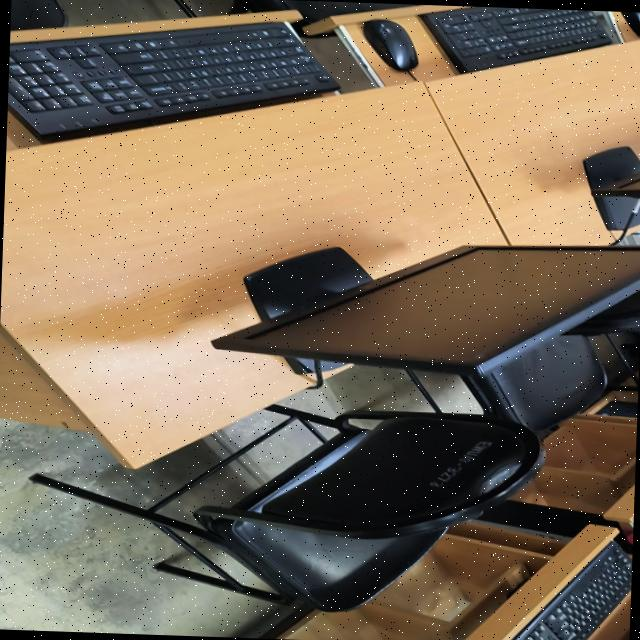Chair: (31, 403, 544, 610), (213, 244, 640, 381), (470, 289, 640, 430), (584, 145, 640, 229)
Cpu: (478, 499, 617, 536)
Keyboard: (7, 20, 339, 138), (420, 5, 623, 72), (508, 540, 632, 640)
Mouse: (363, 18, 418, 70), (622, 10, 640, 35)
